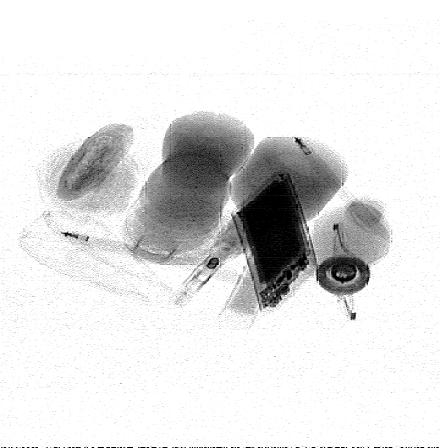Powerbank: (232, 168, 321, 312)
